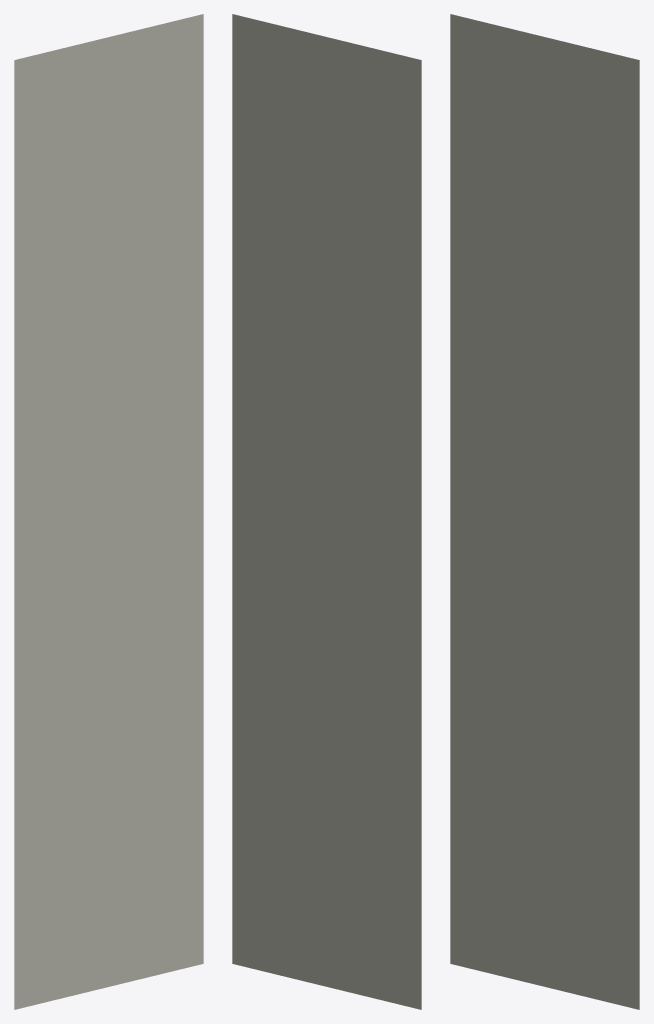
The model's file is B_axis_collider_4.glb.
The picture shows the model from 3 angles, left to right: view 1: azimuth 30°, elevation 25°; view 2: azimuth 150°, elevation 25°; view 3: azimuth 330°, elevation 25°; orthographic projection.
Parts seen in each view (by area): view 1: B_Axis_wall_collide.4; view 2: B_Axis_wall_collide.4; view 3: B_Axis_wall_collide.4.
Boxes of the visible parts, box(x1,y1,x2,y2) form: B_Axis_wall_collide.4: box(14, 14, 203, 1009); B_Axis_wall_collide.4: box(232, 14, 421, 1009); B_Axis_wall_collide.4: box(450, 14, 639, 1009).
Bounding box in the file's own units: 0.781 × 3.75 × 0.
Materials: 1 (1 with a texture image).
